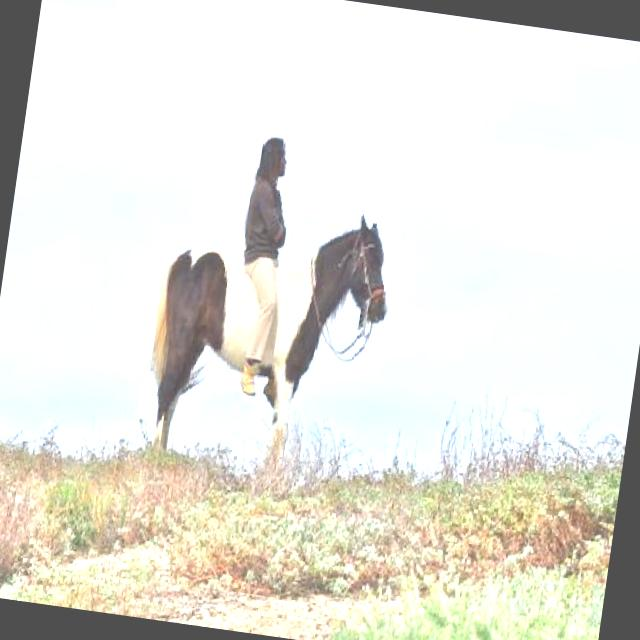Person: (223, 134, 300, 397)
